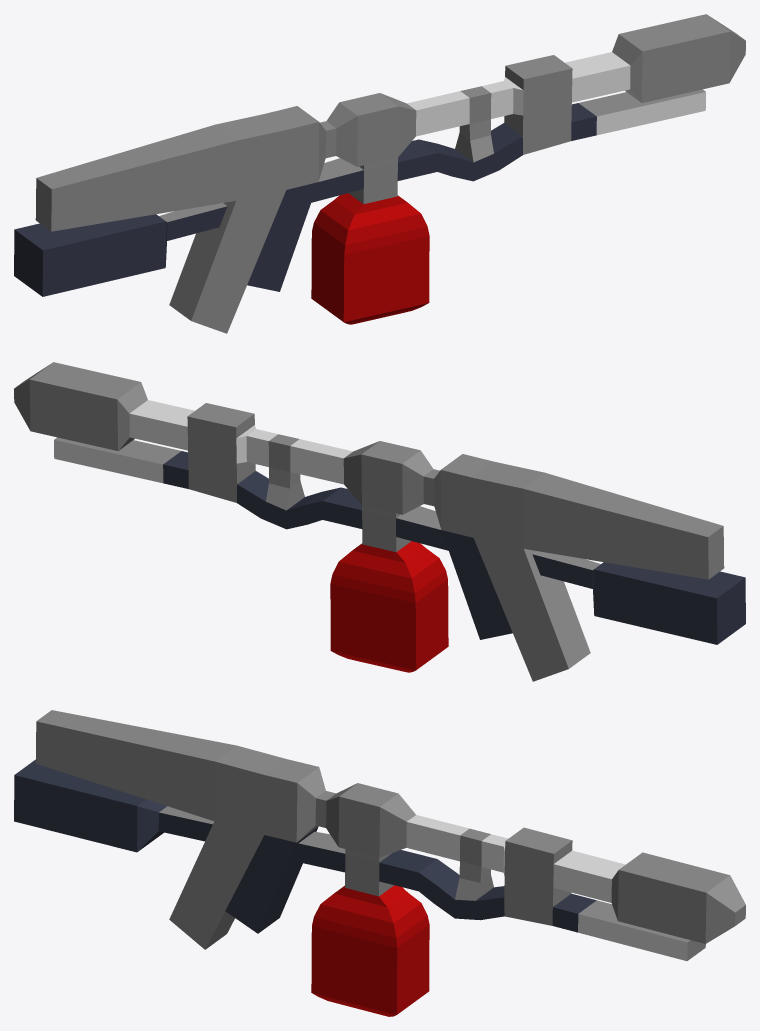
The model's file is Flamethrower.fbx.
3 renders of one model, top to bottom at view 1: azimuth 30°, elevation 25°; view 2: azimuth 150°, elevation 25°; view 3: azimuth 330°, elevation 25°, orthographic.
Visible parts, largest first — view 1: Cube.024; view 2: Cube.024; view 3: Cube.024.
Boxes of the visible parts, bbox=[...] form: Cube.024: bbox=[14, 14, 745, 333]; Cube.024: bbox=[14, 362, 745, 681]; Cube.024: bbox=[14, 710, 745, 1016].
Size of the model in its own units: 584 by 171 by 45.88.
